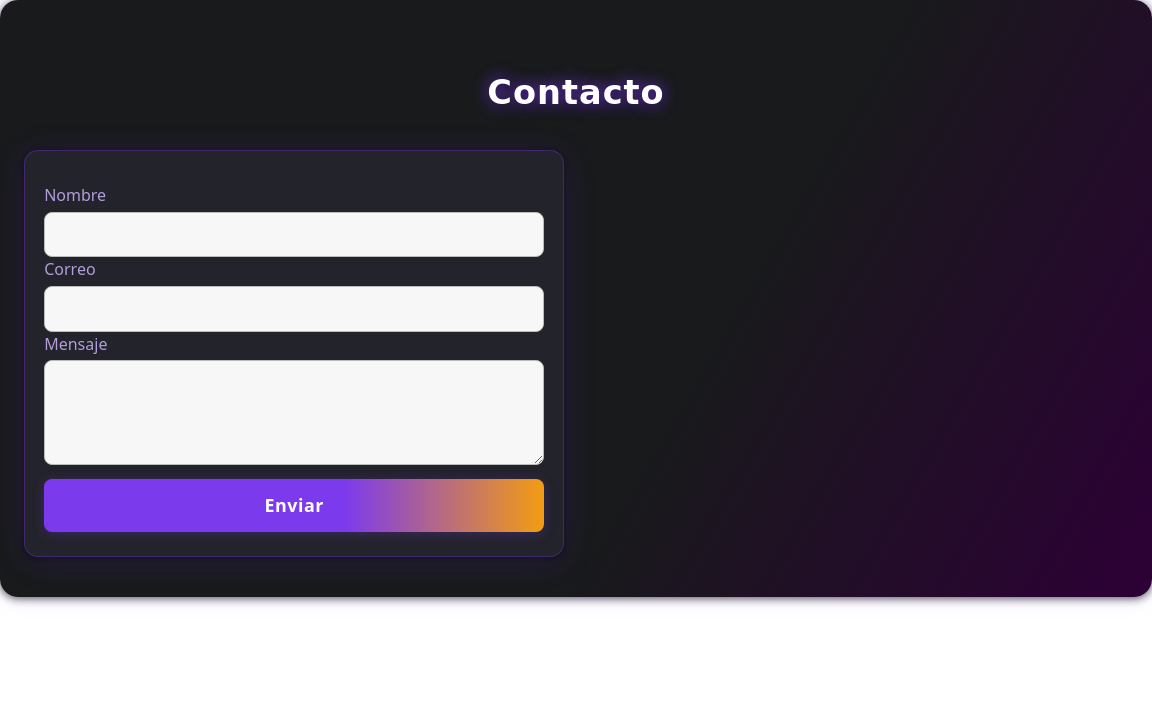
it: Contacto Component › valida que el correo sea obligatorio
Type "Juan" into the field labelled "Nombre".
click(294, 235); type("Juan")  # box [44,212,544,258]
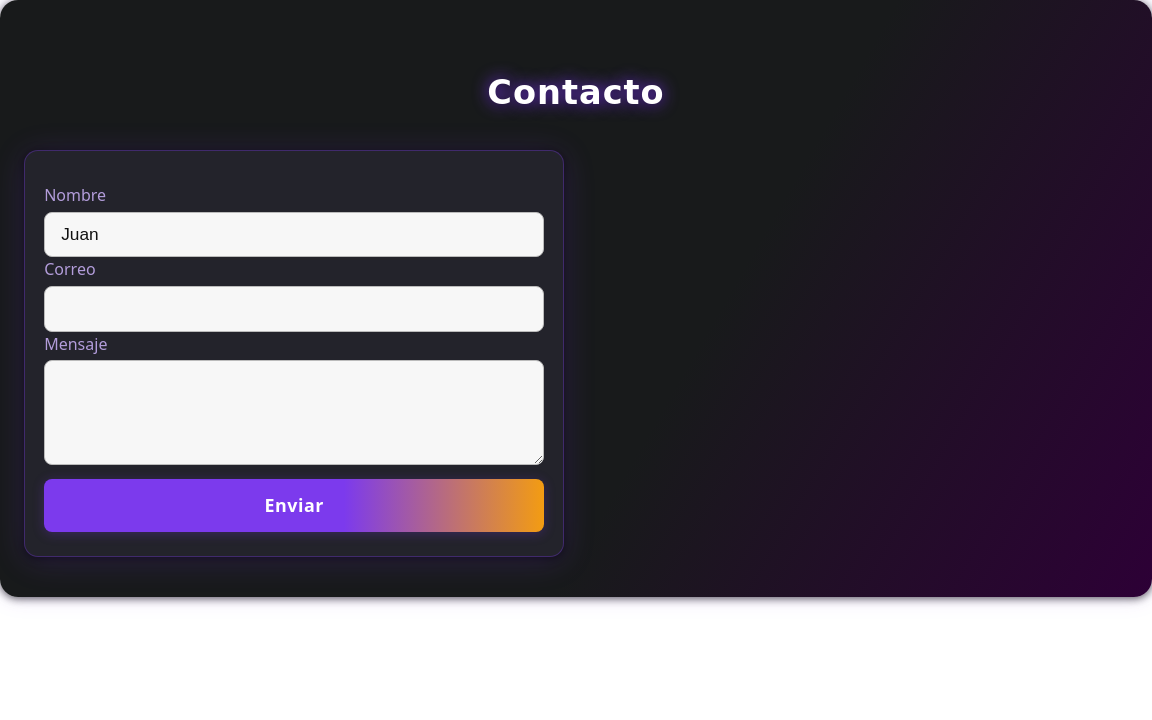
Type "Hola" into the text box labelled "Mensaje".
click(294, 413); type("Hola")  # box [44,360,544,465]
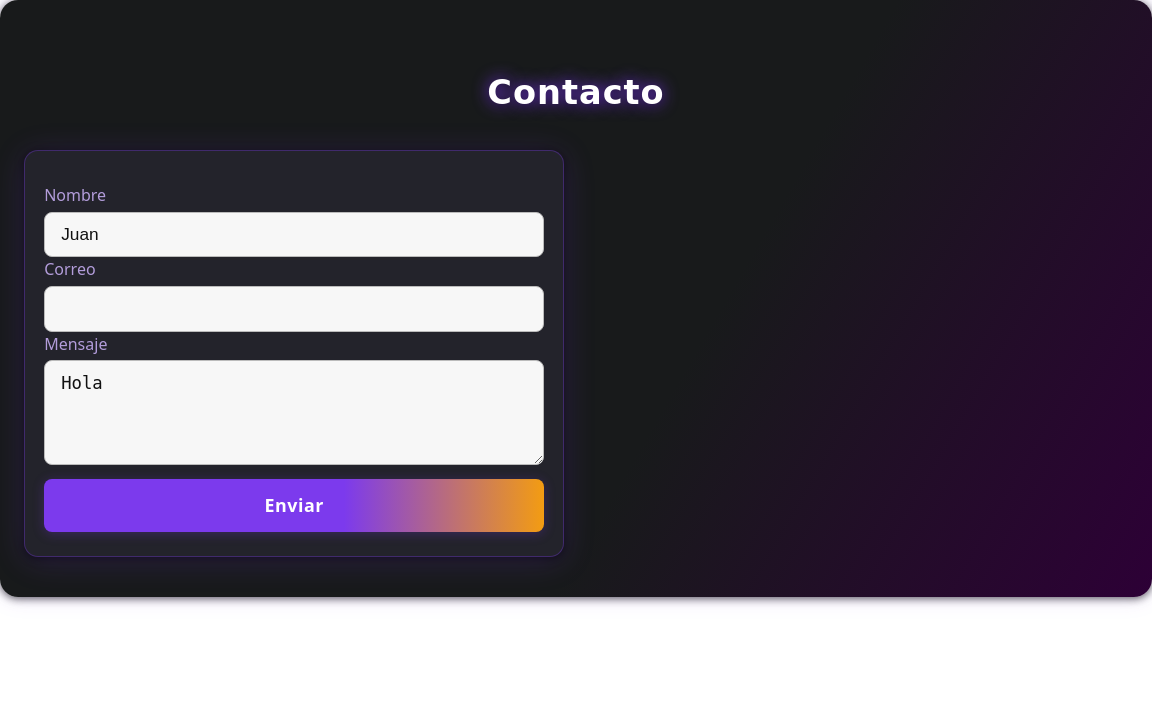
Click the button "Enviar".
click(294, 505)  # box [44,479,544,532]
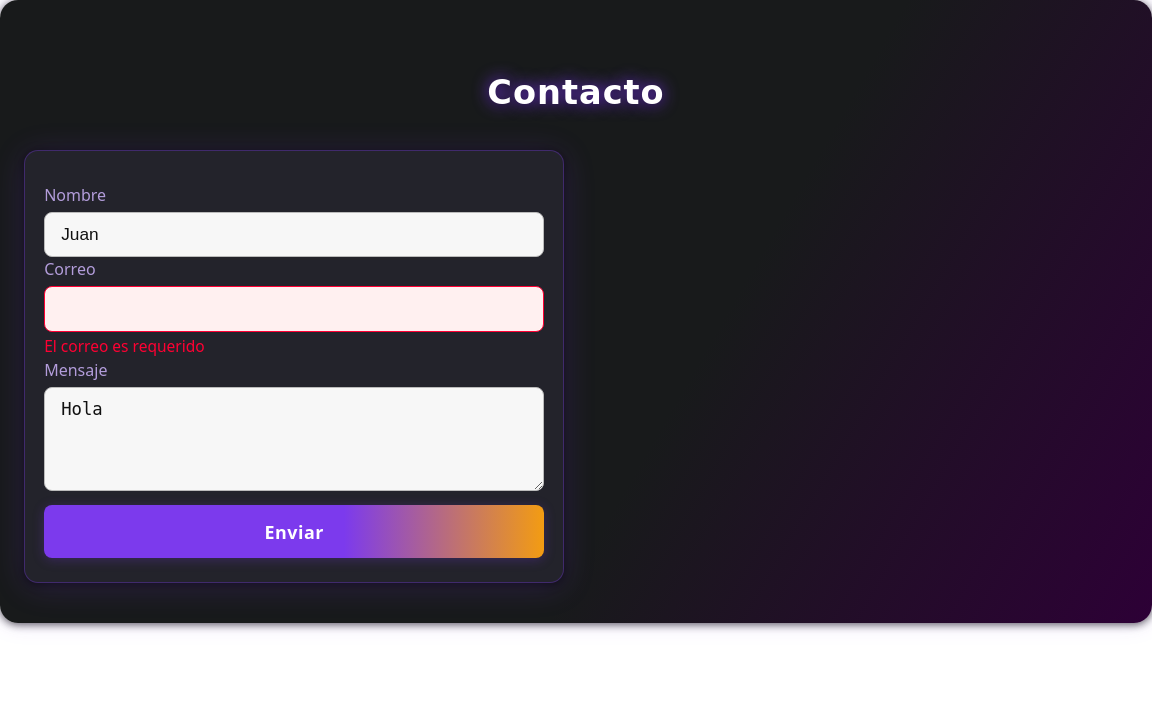
Check: the text "El correo es requerido" is shown, box [44,335,205,357]
